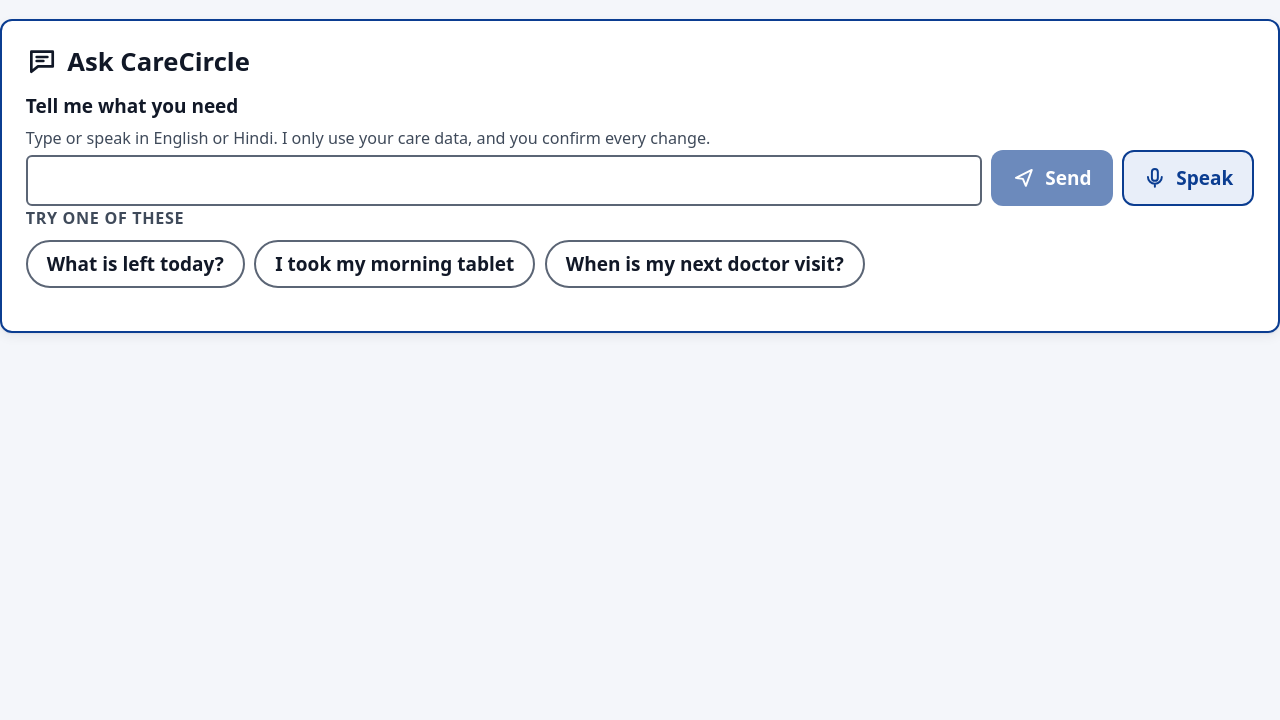
Test case: Assistant (Ask CareCircle) › a mark-dose proposal shows a confirm card naming the medicine; No changes nothing
The width and height of the screenshot is (1280, 720).
Type "I took my morning tablet" into the field labelled "Tell me what you need".
click(504, 180); type("I took my morning tablet")  # box left=26, top=155, right=982, bottom=206
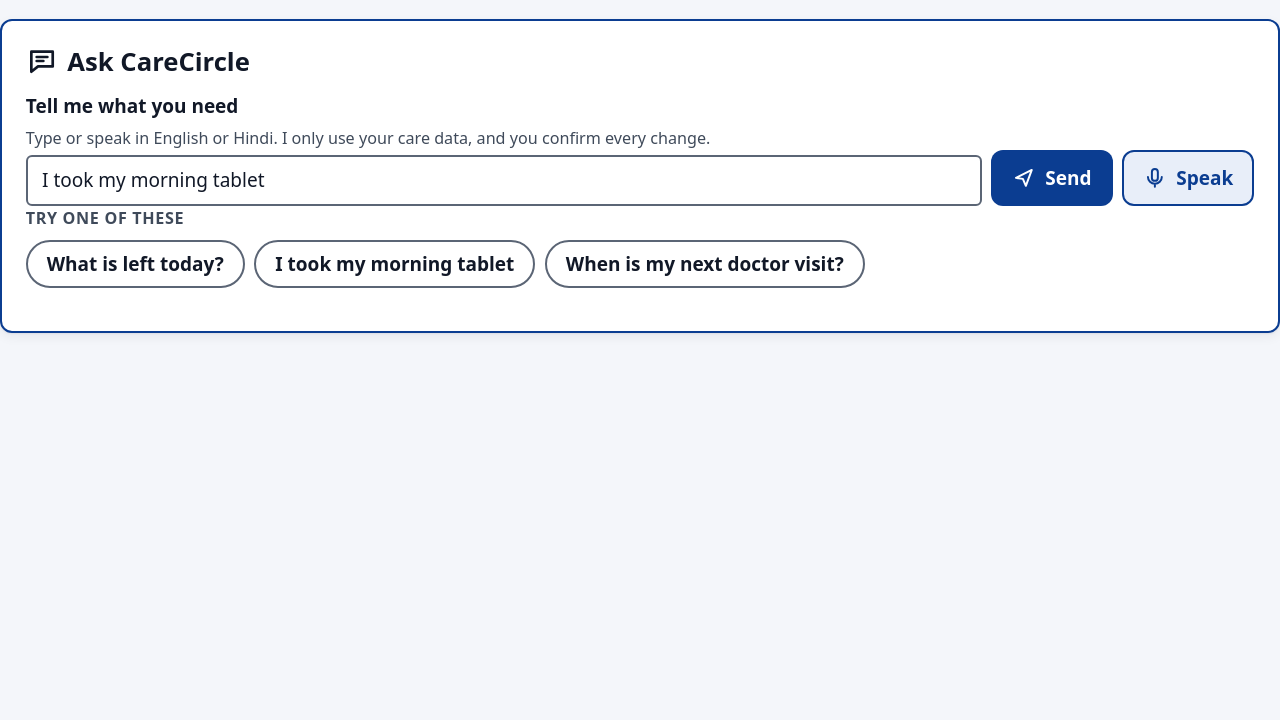
Click the button "Send".
click(1052, 178)  # box left=991, top=150, right=1112, bottom=206
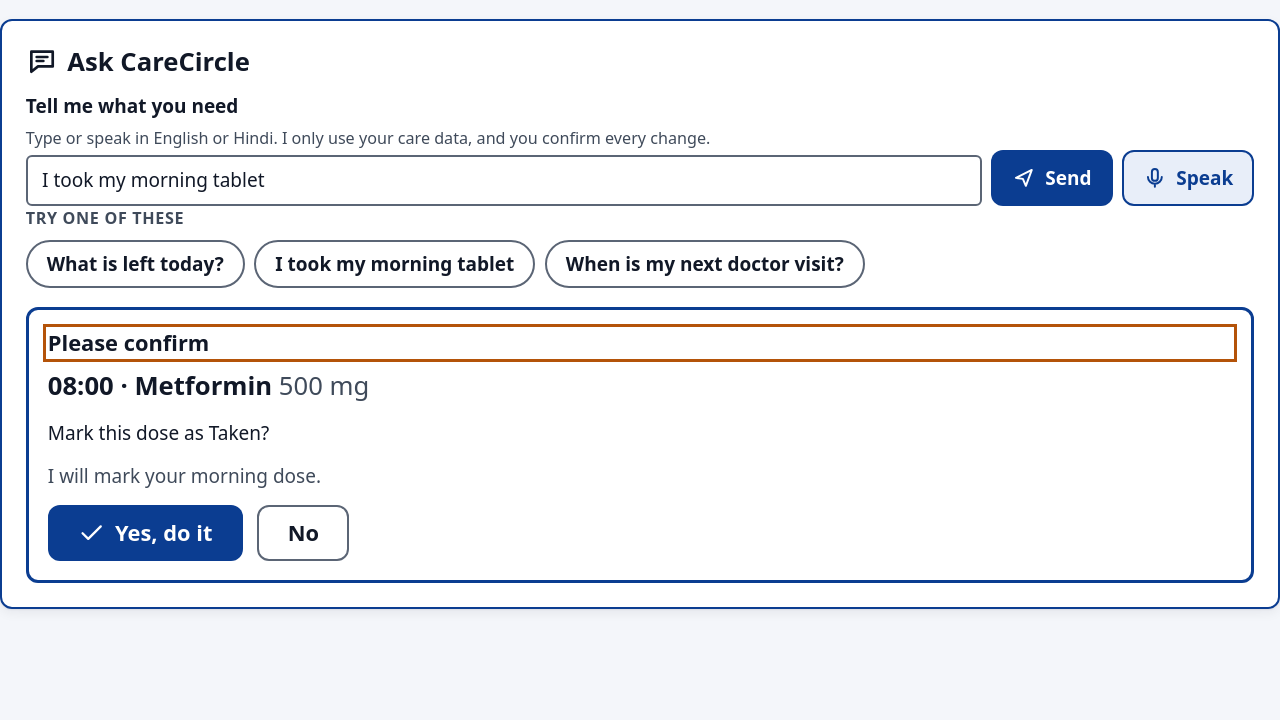
Result: the text "08:00 · Metformin" is shown at left=48, top=368, right=272, bottom=403
Click the button "No".
click(303, 533)  # box left=257, top=505, right=350, bottom=561
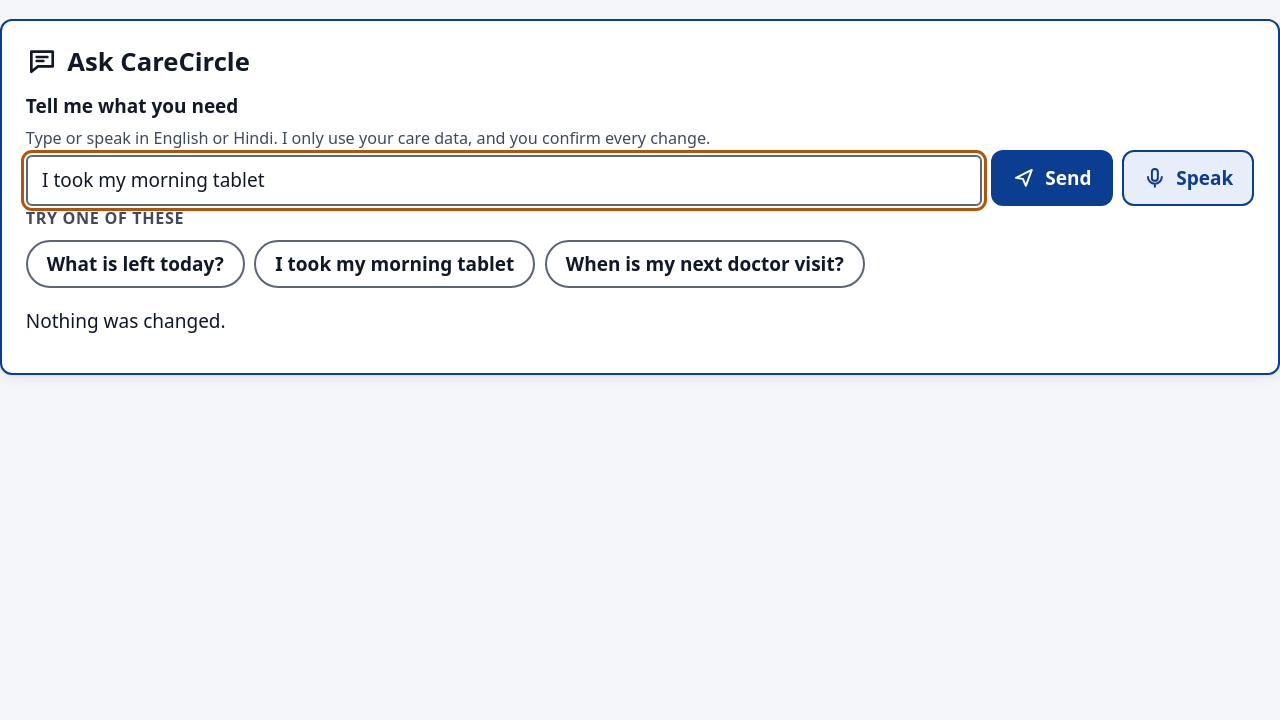
Result: the text "Nothing was changed." is shown at left=26, top=308, right=226, bottom=334
